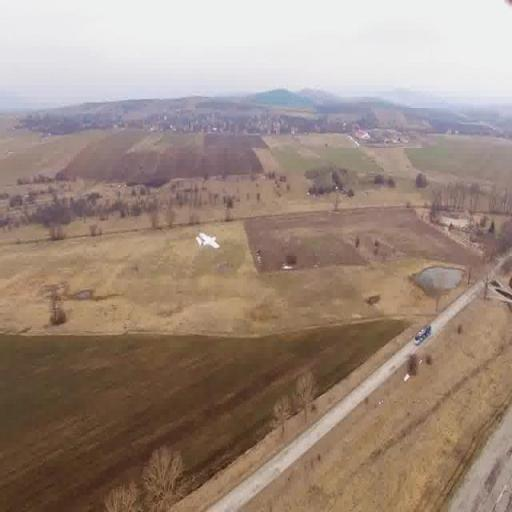uav: (187, 225, 226, 258)
